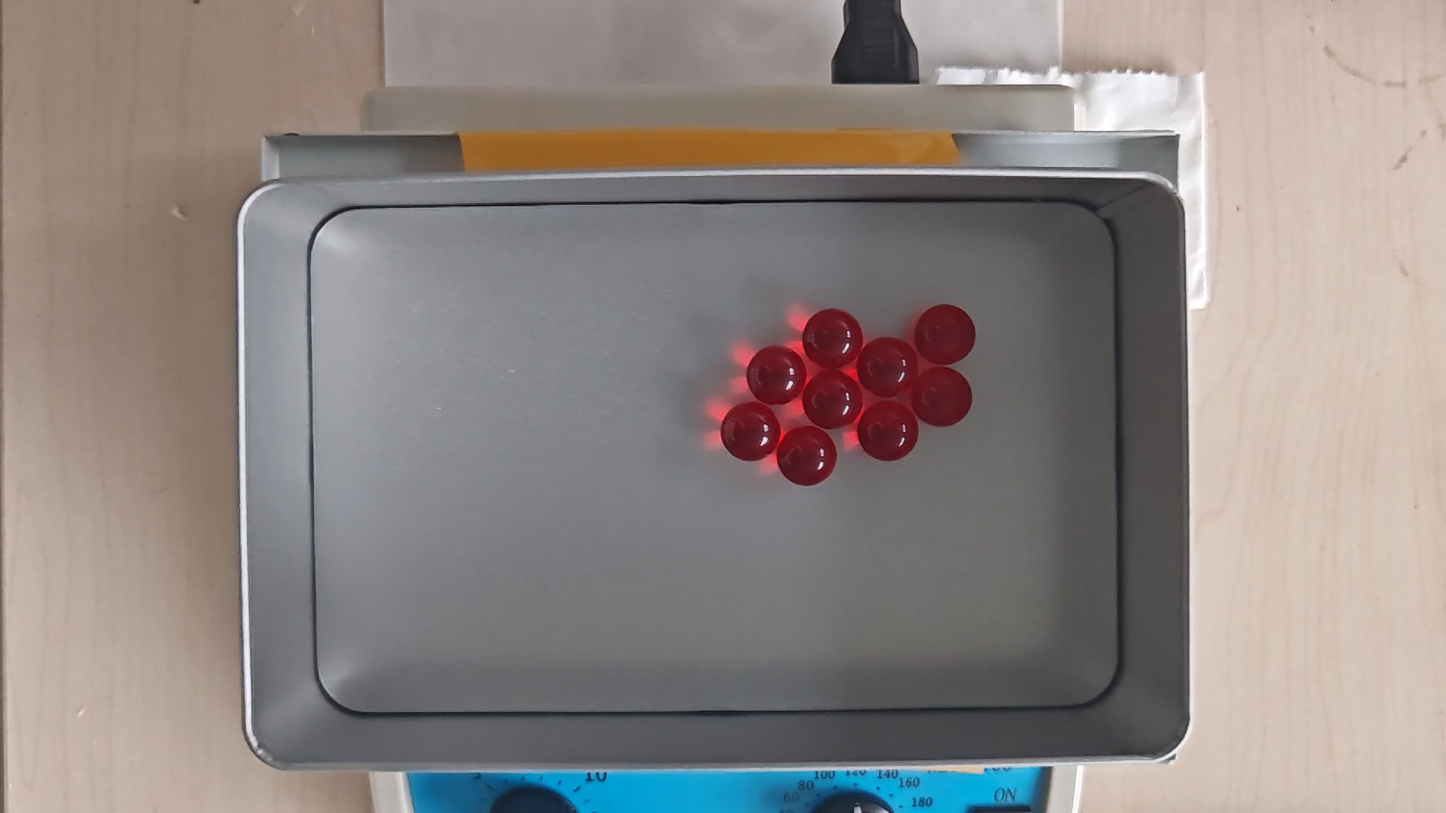ball: (914, 304, 977, 365), (858, 401, 918, 463), (802, 308, 862, 368), (912, 368, 972, 428), (858, 337, 917, 398), (778, 426, 836, 488), (748, 344, 807, 404), (721, 402, 780, 462), (804, 371, 862, 429)
container: (312, 201, 1119, 713)
